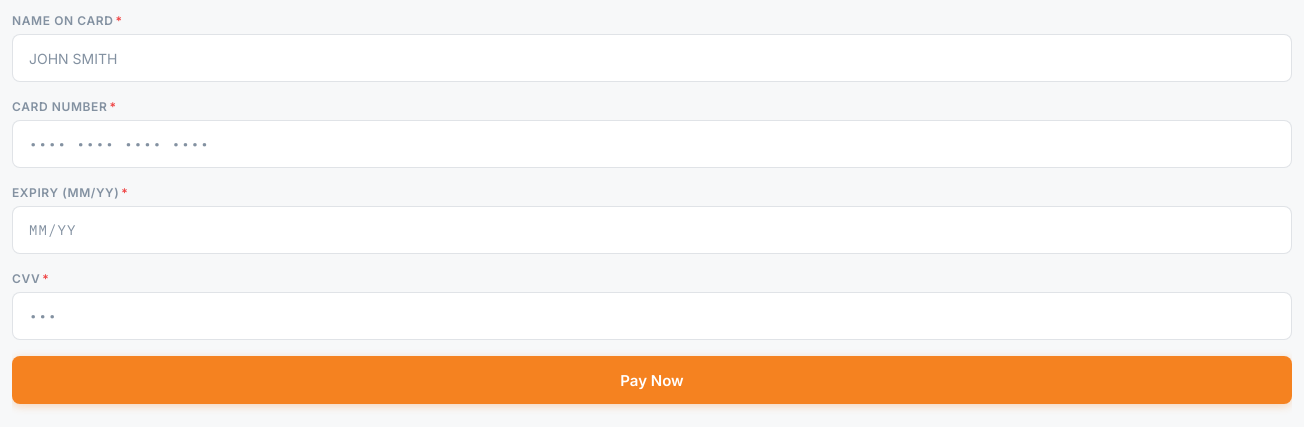
Test: CreditCardForm › formats card number with spaces as user types
In the field with placeholder "•••• •••• •••• ••••": (652,144) [12,120,1292,168], type "4111111111111111"
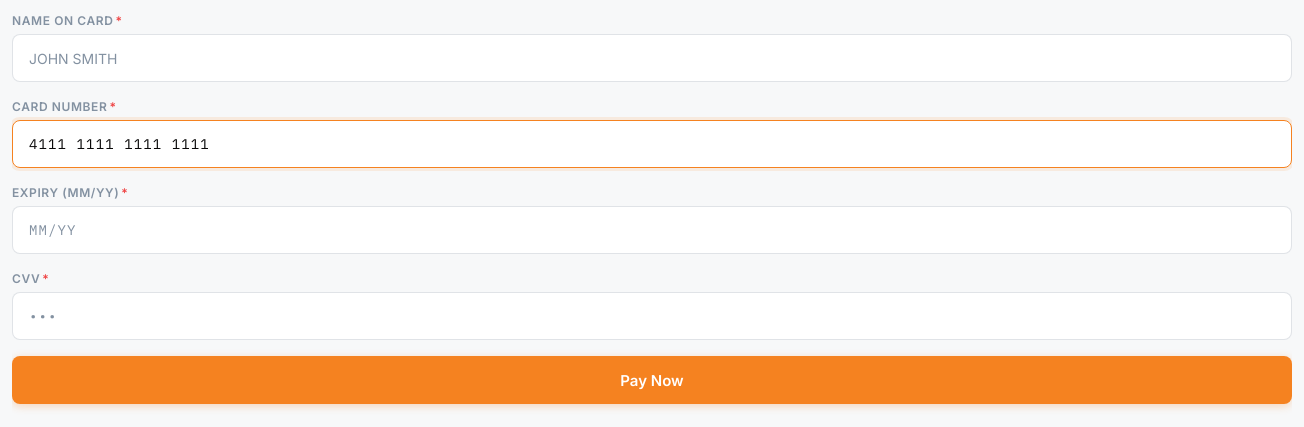
Check: the field with placeholder "•••• •••• •••• ••••" holds "4111 1111 1111 1111", box [12,120,1292,168]
